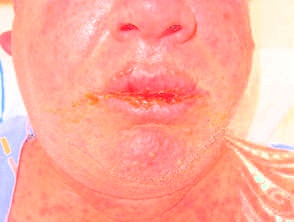SJS-TEN: (25, 0, 253, 221)
